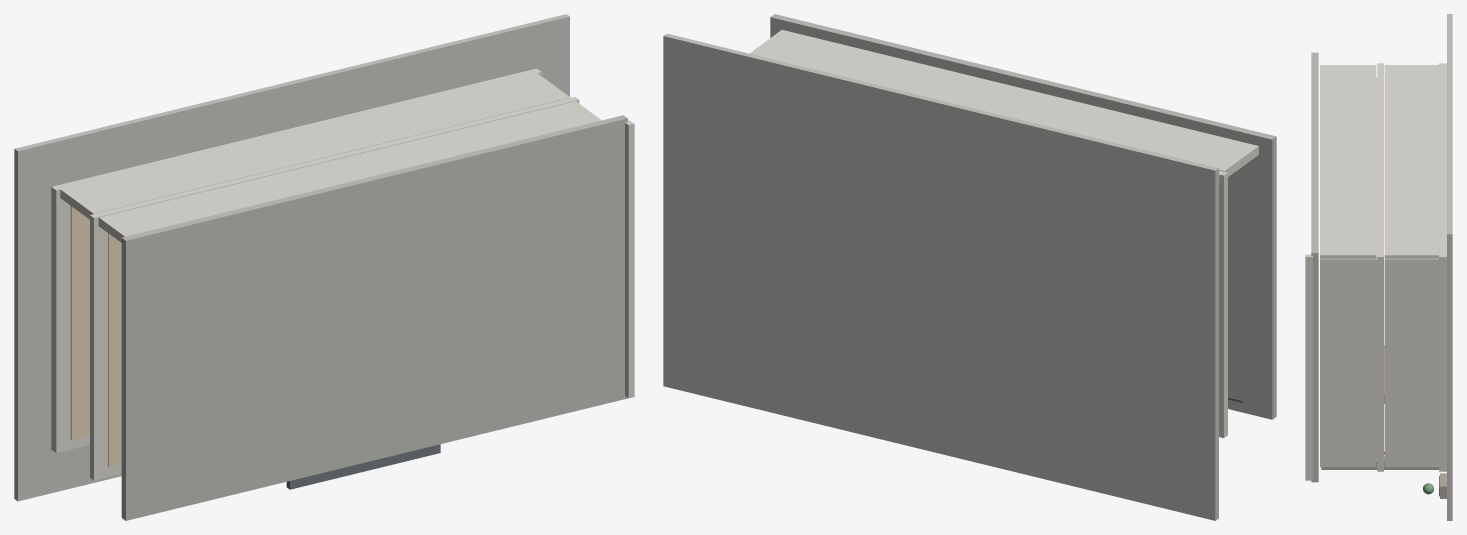
File: public_library.glb
3 views of the same model, side by side, from view 1: azimuth 30°, elevation 25°; view 2: azimuth 150°, elevation 25°; view 3: azimuth 270°, elevation 25° (orthographic). The views are drawn at different scales.
Parts seen in each view (by area): view 1: Flat rooftop slab, Paved base, Rear wall ground, Rear wall upper, Ground floor slab, First floor slab, Ground interior floor, Upper interior floor, Roof parapet, Entrance canopy; view 2: Paved base, Flat rooftop slab, Rear wall upper, First floor slab; view 3: Side wall upper, Side wall lower, Rear wall upper, Rear wall ground, Ground floor slab, Paved base, Flat rooftop slab, First floor slab, Roof parapet, Upper interior floor, Stone facade pier.
Boxes of the visible parts, x1,y1,x2,y2 form: Flat rooftop slab: (121, 115, 627, 520); Paved base: (14, 14, 569, 501); Rear wall ground: (60, 72, 570, 219); Rear wall upper: (98, 101, 601, 242); Ground floor slab: (51, 68, 541, 452); First floor slab: (90, 97, 579, 480); Ground interior floor: (70, 206, 89, 439); Upper interior floor: (108, 233, 121, 466); Roof parapet: (625, 120, 634, 398); Entrance canopy: (286, 444, 440, 489); Paved base: (663, 33, 1218, 520); Flat rooftop slab: (770, 14, 1276, 419); Rear wall upper: (749, 30, 1258, 176); First floor slab: (1219, 170, 1227, 437); Side wall upper: (1320, 258, 1376, 467); Side wall lower: (1384, 258, 1438, 467); Rear wall upper: (1320, 65, 1376, 258); Rear wall ground: (1384, 65, 1439, 258); Ground floor slab: (1439, 63, 1446, 471); Paved base: (1447, 14, 1452, 520); Flat rooftop slab: (1311, 52, 1318, 482); First floor slab: (1377, 63, 1383, 471); Roof parapet: (1305, 254, 1312, 480); Upper interior floor: (1376, 77, 1377, 457); Stone facade pier: (1321, 456, 1438, 469).
Bounding box in the file's own units: 33 × 20.09 × 9.32.
